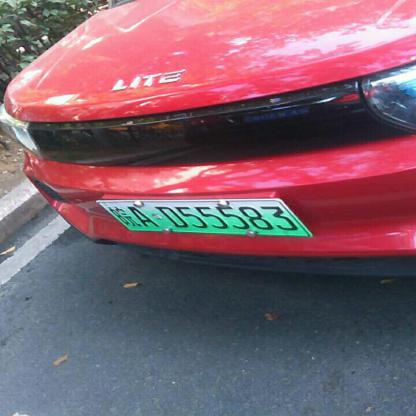lp: (96, 199, 310, 236)
